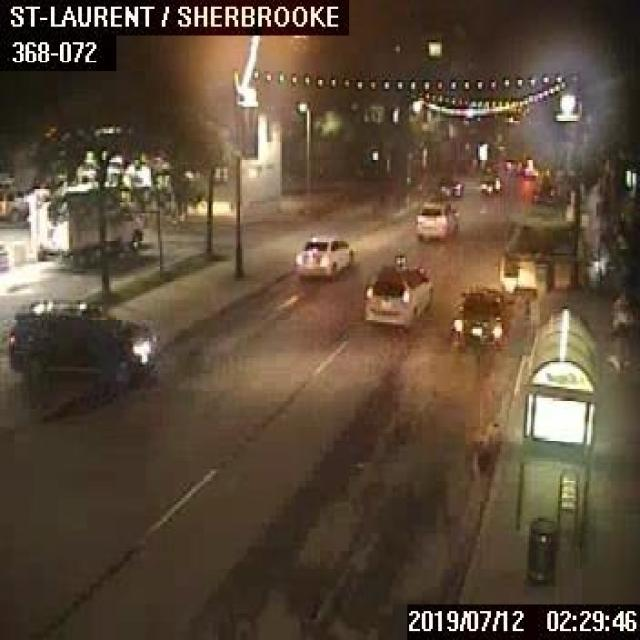vehicle: (6, 298, 158, 376), (29, 186, 142, 258), (362, 253, 433, 326), (496, 222, 552, 290), (451, 284, 507, 340), (294, 231, 351, 277), (414, 197, 456, 239), (0, 184, 27, 219), (434, 176, 462, 193), (478, 175, 501, 193)
